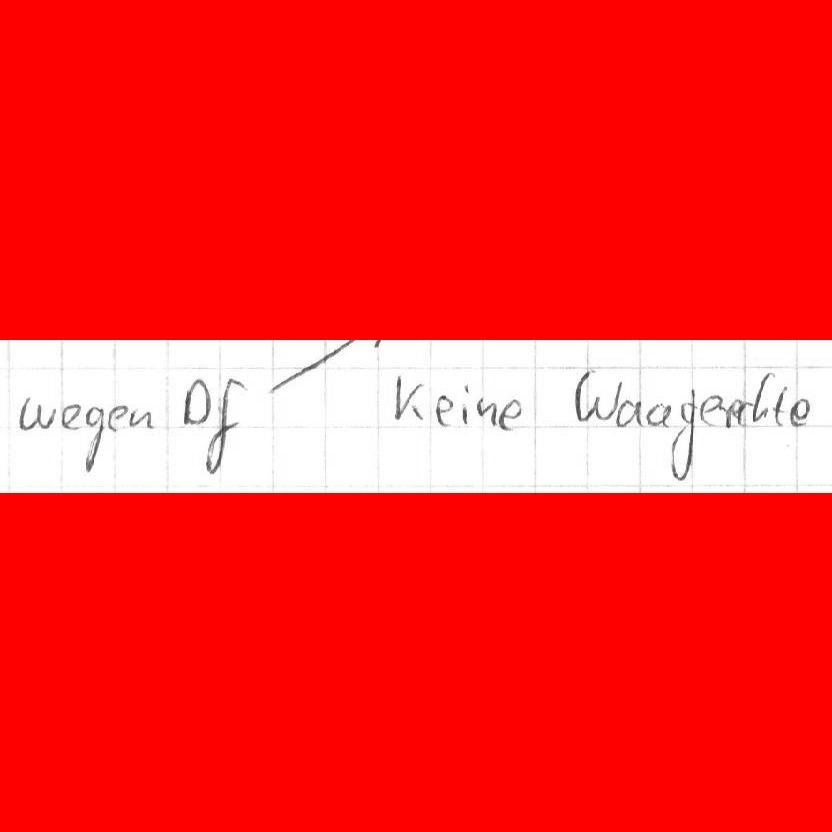Char: (204, 377, 247, 476), (572, 368, 620, 427), (670, 386, 697, 482), (393, 372, 428, 423), (16, 394, 59, 433), (180, 377, 212, 428), (82, 404, 105, 474), (750, 369, 776, 426), (496, 396, 526, 431), (698, 391, 723, 429), (787, 395, 813, 430), (614, 397, 643, 428), (643, 400, 673, 428), (771, 382, 789, 428), (126, 405, 158, 429), (434, 391, 454, 428), (476, 395, 498, 428), (59, 401, 83, 431), (106, 402, 129, 432), (460, 380, 472, 429), (736, 395, 753, 428)
